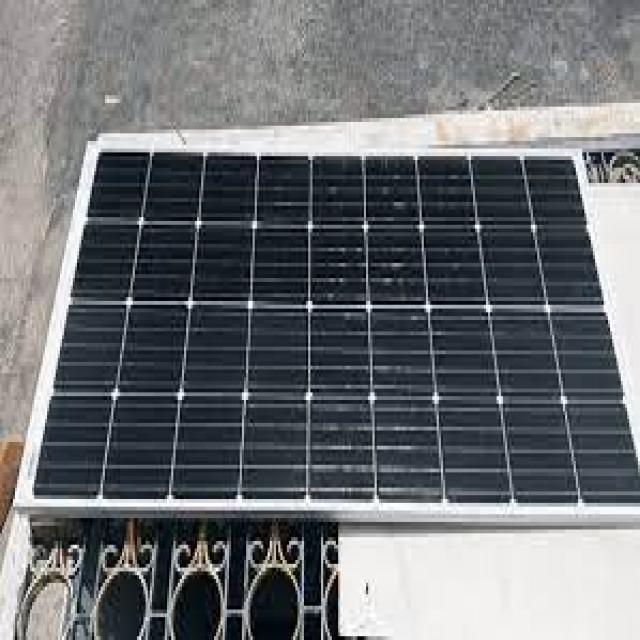faulty: (37, 151, 636, 505)
